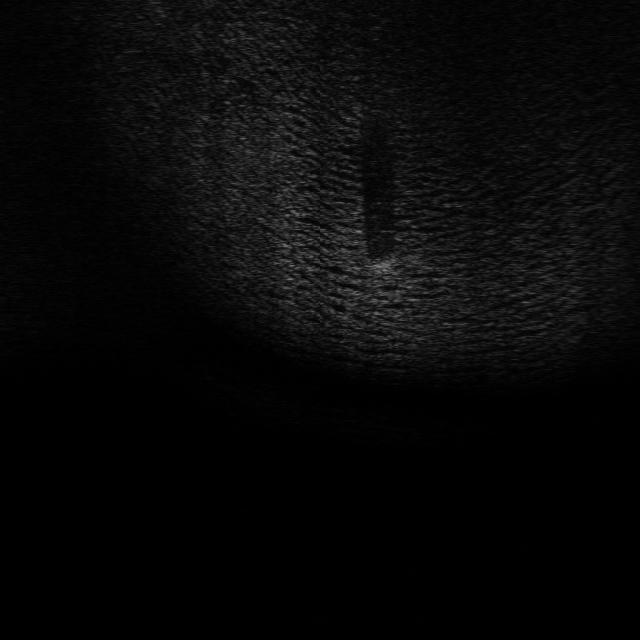cube: (366, 252, 404, 277)
